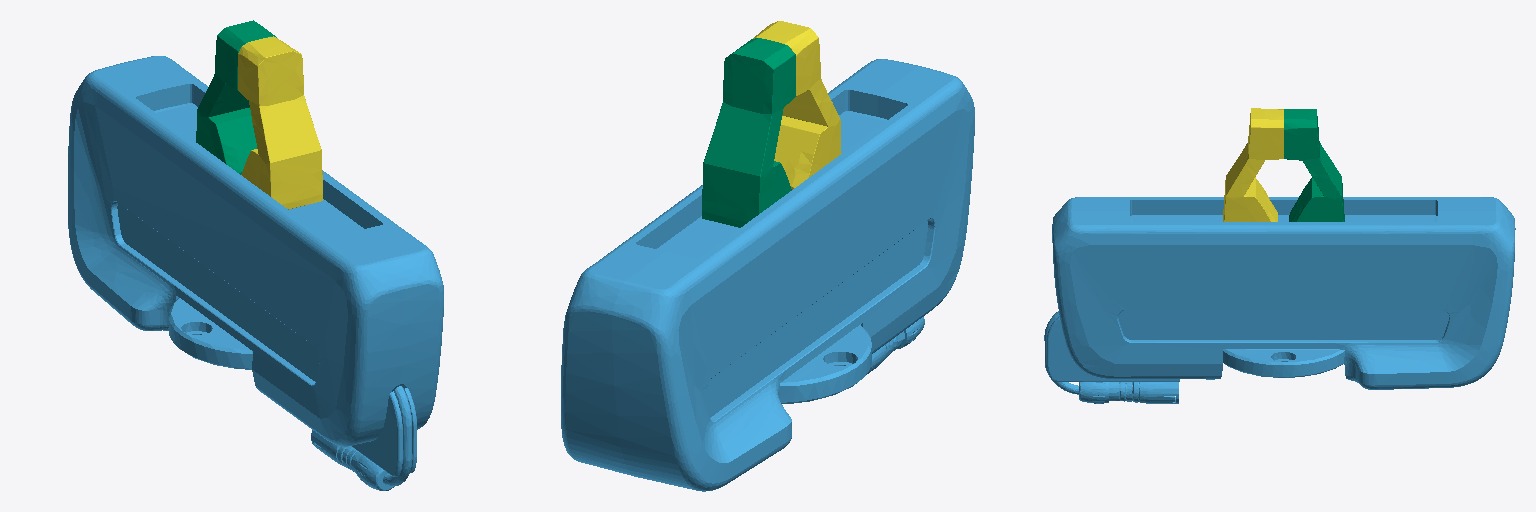
URDF robot description (franka_panda):
<?xml version="1.0"?>
<robot name="franka_panda">
  <joint name="panda_finger_joint1" type="prismatic">
    <origin xyz="0. 0. 0.0584" rpy="0. 0. 1.5707964"/>
    <parent link="panda_hand"/>
    <child link="panda_leftfinger"/>
    <axis xyz="1. 0. 0."/>
    <limit lower="0." upper="0.04" effort="25." velocity="0.04"/>
  </joint>
  <joint name="panda_finger_joint2" type="prismatic">
    <origin xyz="0. 0. 0.0584" rpy="0. 0. -1.5707964"/>
    <parent link="panda_hand"/>
    <child link="panda_rightfinger"/>
    <axis xyz="1. 0. 0."/>
    <limit lower="0." upper="0.04" effort="25." velocity="0.04"/>
  </joint>
  <joint name="root_joint" type="fixed">
    <origin xyz="0. 0. -0.075" rpy="0. 0. 0."/>
    <parent link="panda"/>
    <child link="panda_hand"/>
  </joint>
  <link name="panda"/>
  <link name="panda_hand">
    <inertial>
      <origin xyz="0. 0. 0." rpy="0. 0. 0."/>
      <mass value="0.81"/>
      <inertia ixx="0." ixy="0." ixz="0." iyy="0." iyz="0." izz="0."/>
    </inertial>
    <visual>
      <origin xyz="0. 0. 0." rpy="0. 0. 0."/>
      <geometry>
        <mesh filename="meshes/panda_hand_visuals_mesh_0.obj" scale="1. 1. 1."/>
      </geometry>
    </visual>
    <collision>
      <origin xyz="0. 0. 0." rpy="0. 0. 0."/>
      <geometry>
        <mesh filename="meshes/panda_hand_hull.obj" scale="1. 1. 1."/>
      </geometry>
    </collision>
  </link>
  <link name="panda_leftfinger">
    <inertial>
      <origin xyz="0. 0. 0." rpy="0. 0. 0."/>
      <mass value="0.1"/>
      <inertia ixx="0." ixy="0." ixz="0." iyy="0." iyz="0." izz="0."/>
    </inertial>
    <visual>
      <origin xyz="0. 0. 0." rpy="0. 0. -1.5707964"/>
      <geometry>
        <mesh filename="meshes/panda_finger.obj" scale="1. 1. 1."/>
      </geometry>
    </visual>
    <collision>
      <origin xyz="0. 0. 0." rpy="0. 0. -1.5707964"/>
      <geometry>
        <mesh filename="meshes/panda_finger.obj" scale="1. 1. 1."/>
      </geometry>
    </collision>
  </link>
  <link name="panda_rightfinger">
    <inertial>
      <origin xyz="0. 0. 0." rpy="0. 0. 0."/>
      <mass value="0.1"/>
      <inertia ixx="0." ixy="0." ixz="0." iyy="0." iyz="0." izz="0."/>
    </inertial>
    <visual>
      <origin xyz="0. 0. 0." rpy="0. 0. -1.5707963"/>
      <geometry>
        <mesh filename="meshes/panda_finger.obj" scale="1. 1. 1."/>
      </geometry>
    </visual>
    <collision>
      <origin xyz="0. 0. 0." rpy="0. 0. -1.5707963"/>
      <geometry>
        <mesh filename="meshes/panda_finger.obj" scale="1. 1. 1."/>
      </geometry>
    </collision>
  </link>
</robot>

--- Facts derived from the render (not from the file) ---
The picture shows the robot from 3 angles, left to right: view 1: azimuth 30°, elevation 25°; view 2: azimuth 150°, elevation 25°; view 3: azimuth 270°, elevation 25°; orthographic projection.
Robot: franka_panda — 4 links, 3 joints (2 prismatic, 1 fixed); root link panda; default pose: all joints at 0.
Links seen in each view (by area): view 1: panda_hand, panda_rightfinger, panda_leftfinger; view 2: panda_hand, panda_leftfinger, panda_rightfinger; view 3: panda_hand, panda_rightfinger, panda_leftfinger.
Boxes of the visible links, x1=… form: panda_hand: x1=68, y1=56, x2=443, y2=490; panda_rightfinger: x1=238, y1=36, x2=322, y2=209; panda_leftfinger: x1=196, y1=20, x2=276, y2=174; panda_hand: x1=561, y1=59, x2=974, y2=491; panda_leftfinger: x1=702, y1=38, x2=795, y2=227; panda_rightfinger: x1=753, y1=21, x2=841, y2=189; panda_hand: x1=1044, y1=197, x2=1515, y2=403; panda_rightfinger: x1=1223, y1=108, x2=1283, y2=221; panda_leftfinger: x1=1284, y1=109, x2=1344, y2=221.
Bounding box of the posed robot: 0.063 × 0.2045 × 0.1382 m (x, y, z).
3 mesh visuals loaded from 2 distinct referenced files (2 OBJ).